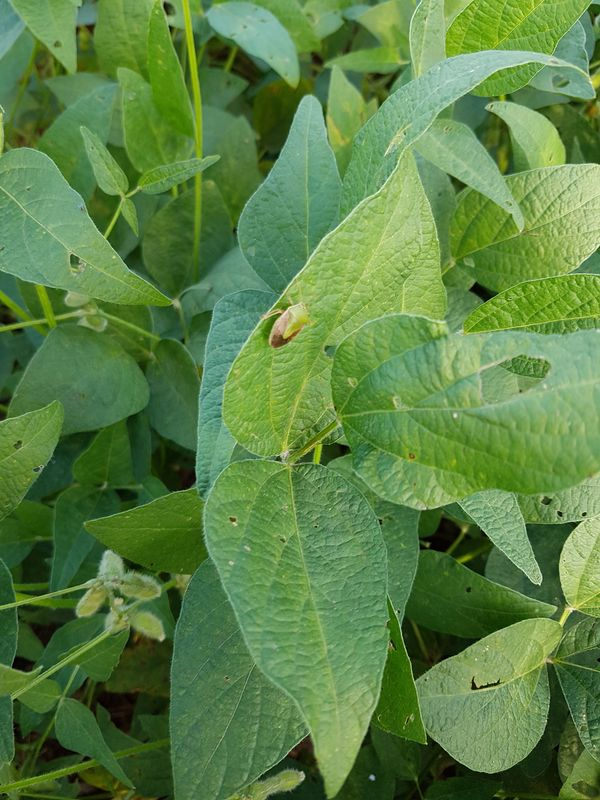Edessa_meditabunda: (254, 277, 318, 355)
